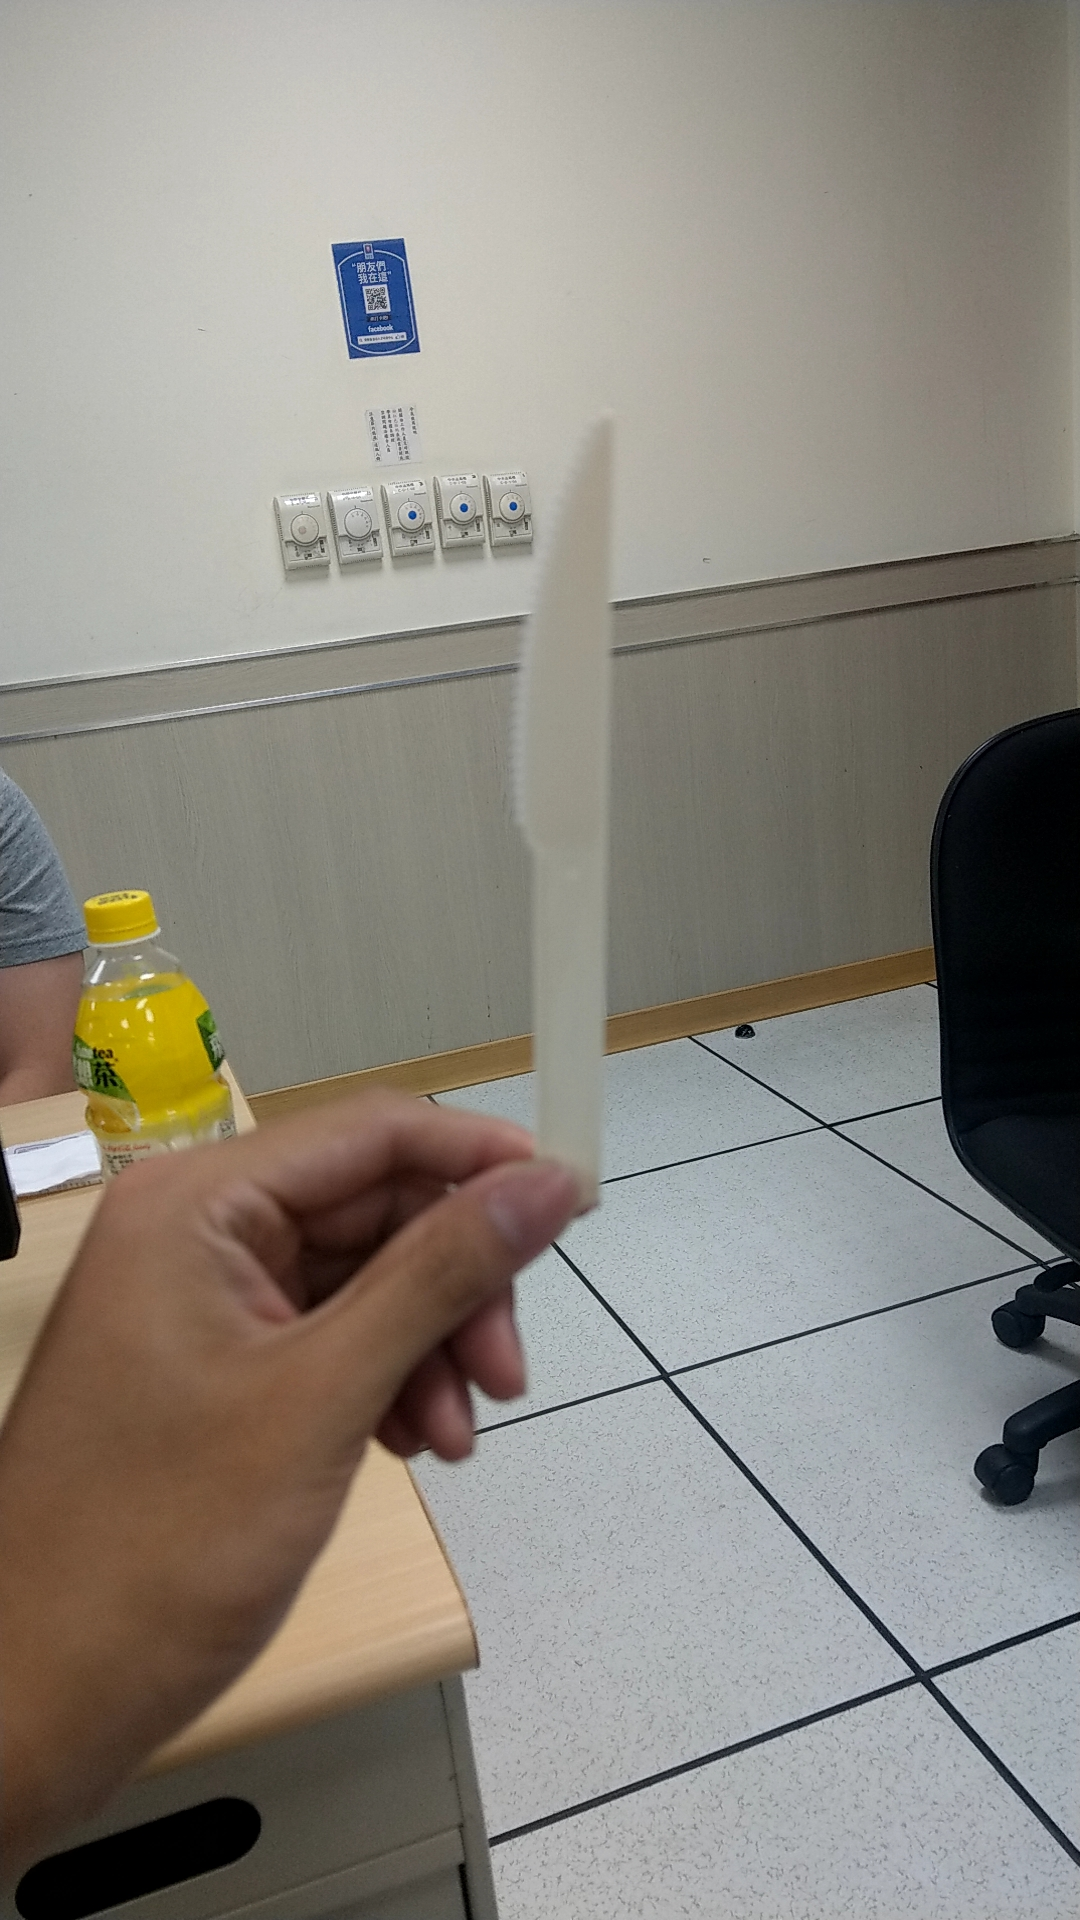knife: (491, 397, 629, 1197)
